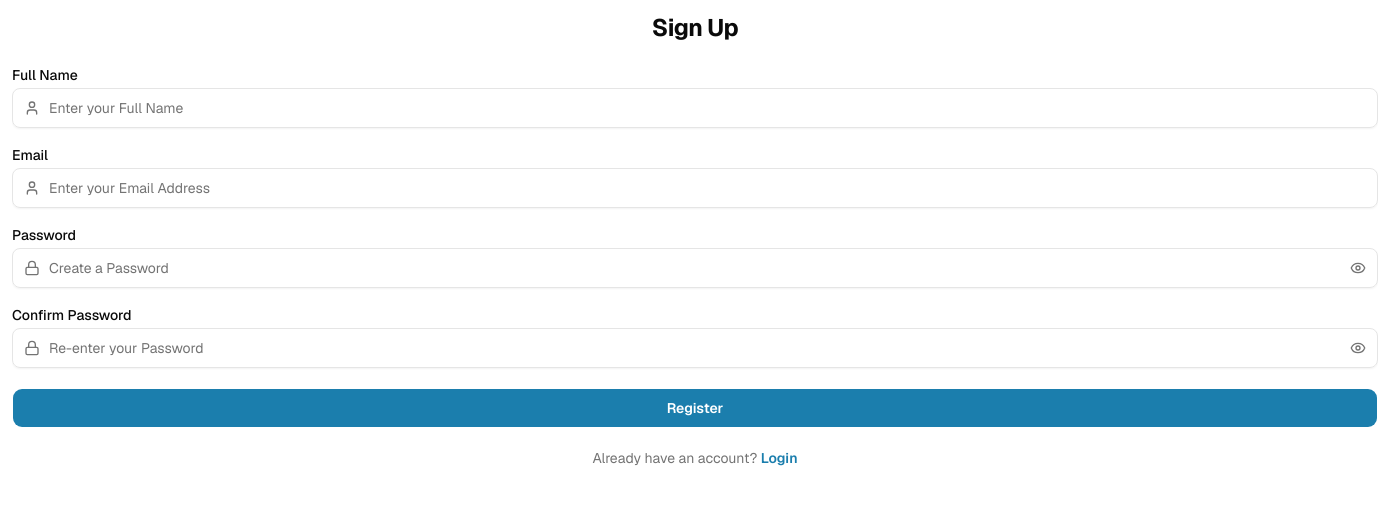
Test: RegisterForm › should show password complexity error
Type "Test" into the field labelled "Full Name" at [695, 108], box [12,88,1378,128]
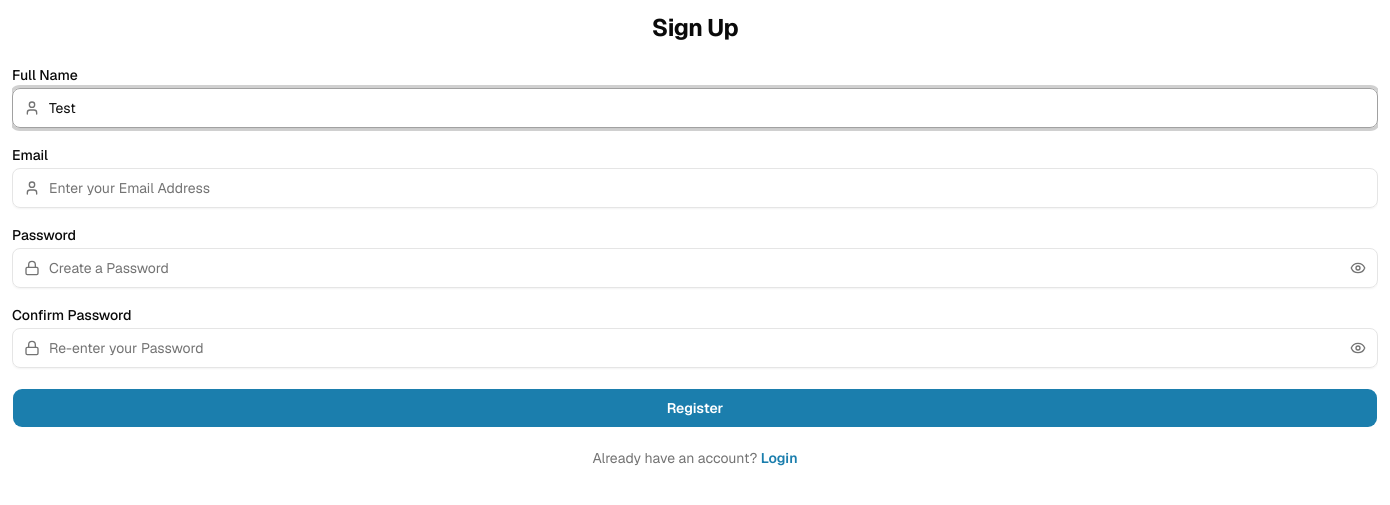
Type "a@b.com" into the field labelled "Email" at [695, 188], box [12,168,1378,208]
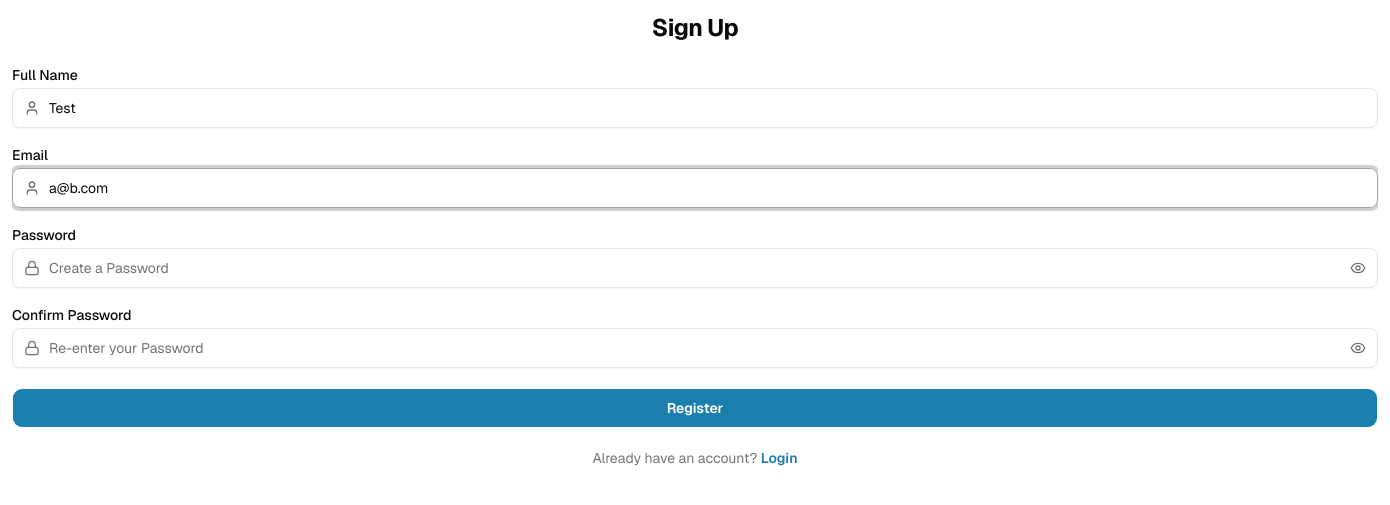
Type "alllowercase" into the password field labelled "Password" at [695, 268], box [12,248,1378,288]
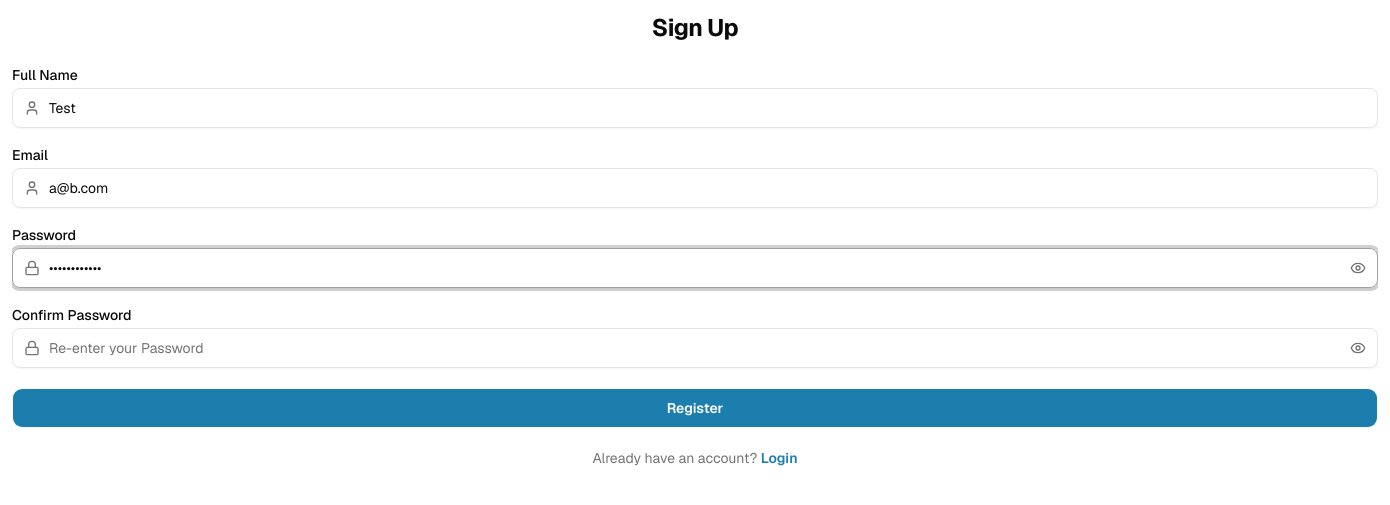
Type "alllowercase" into the password field labelled "Confirm Password" at [695, 348], box [12,328,1378,368]
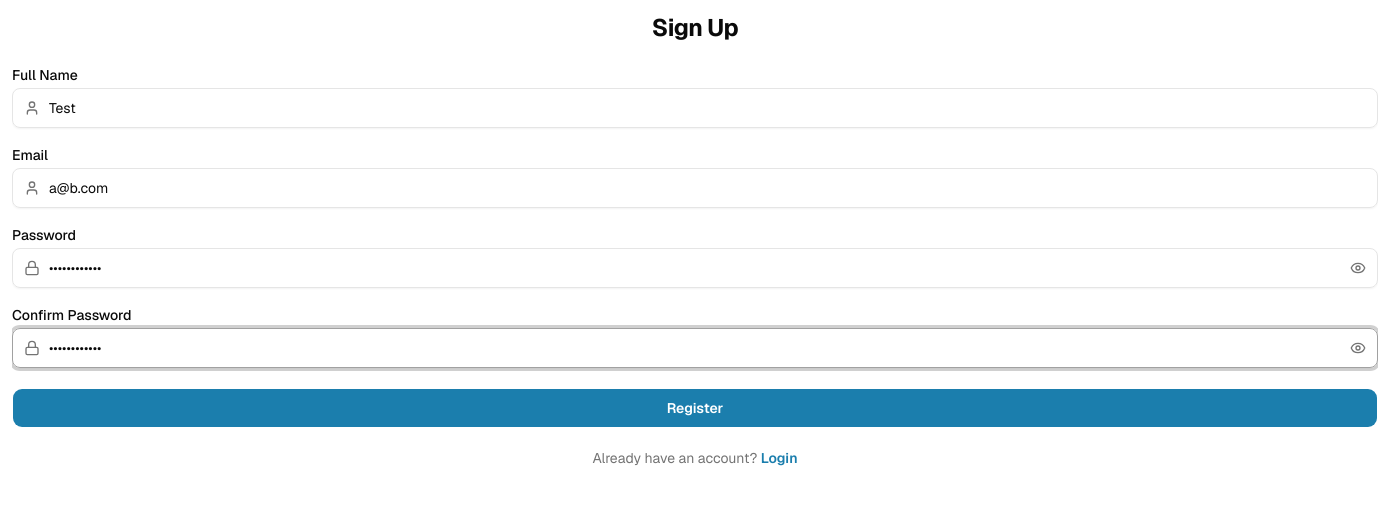
Click the button "Register" at [695, 408], box [12,388,1378,428]
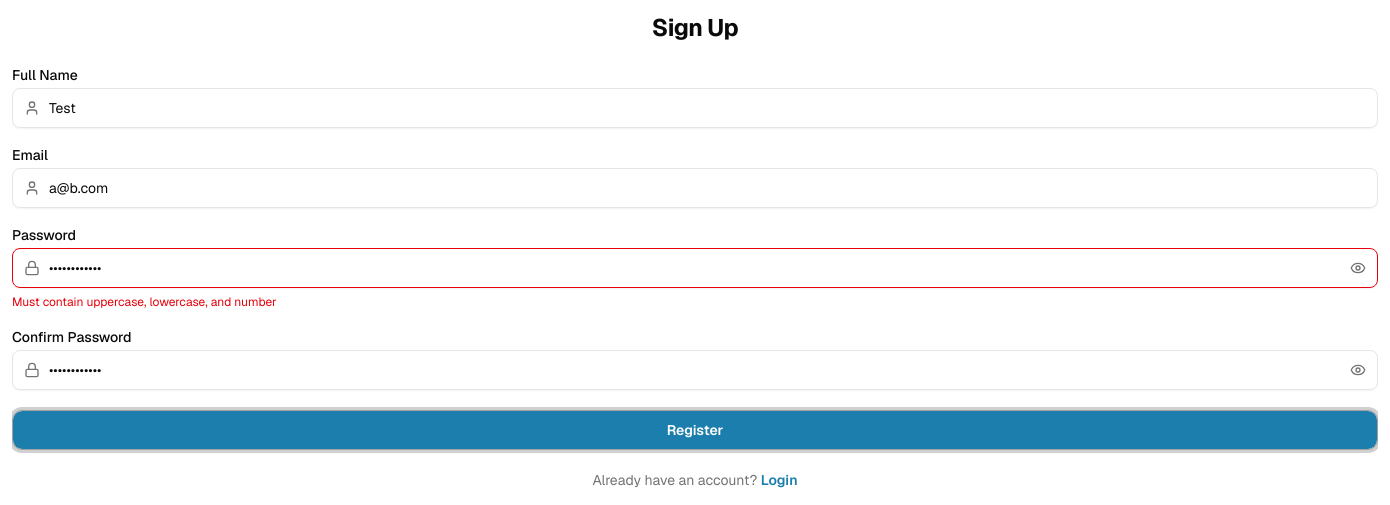
Expected: the text "Must contain uppercase, lowercase, and number" is shown, [12,294,277,310]
